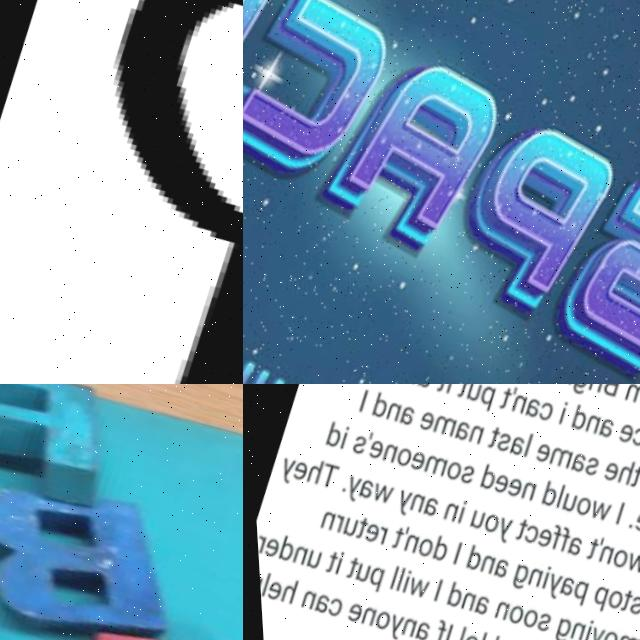A: (393, 405, 415, 430), (352, 477, 373, 503), (551, 579, 572, 605), (306, 591, 327, 617), (502, 438, 523, 463), (449, 421, 470, 446), (560, 540, 581, 565), (486, 560, 507, 585), (466, 597, 487, 621), (520, 401, 540, 426), (593, 423, 612, 448), (565, 456, 584, 480), (418, 498, 437, 522), (405, 621, 427, 640)
B: (0, 447, 205, 640), (597, 384, 620, 405)
C: (320, 595, 341, 621), (532, 405, 553, 429), (518, 527, 537, 551), (626, 432, 640, 456)
D: (438, 582, 462, 612), (459, 547, 483, 576), (566, 408, 589, 438), (320, 420, 343, 450), (271, 533, 294, 563), (534, 484, 557, 513), (426, 536, 448, 566), (367, 392, 389, 421), (474, 465, 495, 495)
E: (362, 438, 384, 464), (338, 602, 360, 627), (612, 428, 633, 454), (413, 411, 434, 437), (487, 475, 508, 501), (530, 530, 551, 556), (287, 458, 308, 484), (259, 577, 280, 603), (529, 446, 550, 471), (405, 451, 426, 476), (258, 534, 279, 559), (500, 480, 521, 504), (597, 466, 618, 489), (358, 523, 377, 547), (627, 516, 640, 542)
F: (551, 531, 569, 559), (543, 528, 561, 556), (425, 620, 444, 640)
G: (504, 566, 527, 596), (566, 384, 589, 402), (546, 621, 567, 640)
H: (611, 464, 633, 495), (274, 575, 295, 605), (302, 457, 323, 486), (555, 384, 577, 392)
I: (328, 550, 342, 577), (553, 406, 567, 432), (535, 571, 549, 597), (395, 570, 409, 596), (335, 426, 348, 451), (451, 503, 464, 528), (354, 389, 367, 414), (447, 542, 460, 567), (610, 508, 623, 531), (426, 581, 439, 604), (575, 623, 591, 640), (441, 384, 455, 398), (583, 384, 596, 397), (435, 628, 448, 640)
L: (550, 489, 564, 514), (390, 568, 403, 594), (518, 437, 531, 462), (383, 567, 396, 592), (256, 570, 268, 595), (450, 628, 462, 640), (470, 634, 483, 640)
M: (545, 450, 571, 476), (429, 415, 455, 441), (419, 455, 445, 481), (620, 388, 640, 414)
N: (464, 425, 485, 451), (377, 443, 398, 468), (403, 493, 424, 518), (452, 593, 473, 617), (473, 557, 494, 580), (286, 544, 307, 567), (592, 549, 611, 574), (516, 484, 535, 508), (488, 602, 507, 626), (507, 398, 527, 420), (393, 618, 413, 640), (354, 607, 374, 629), (382, 402, 401, 425), (314, 510, 333, 533), (438, 504, 457, 526), (521, 571, 540, 593), (398, 535, 417, 557), (294, 588, 313, 610), (580, 421, 598, 441), (563, 626, 582, 640)
O: (514, 609, 536, 635), (605, 552, 626, 578), (390, 447, 412, 471), (569, 500, 590, 524), (440, 461, 461, 485), (600, 594, 621, 618), (366, 610, 387, 634), (477, 515, 498, 538), (411, 539, 432, 562), (500, 608, 521, 631), (594, 633, 616, 640), (454, 635, 475, 640)
P: (0, 384, 126, 524), (562, 584, 586, 615), (473, 387, 496, 418), (360, 565, 382, 595), (584, 590, 605, 620)
R: (0, 0, 243, 384), (326, 514, 343, 536), (371, 527, 385, 548), (254, 532, 265, 553), (589, 384, 603, 400)
S: (621, 599, 640, 624), (579, 461, 598, 484), (491, 434, 510, 457), (530, 615, 549, 638), (455, 467, 474, 489), (347, 435, 366, 457)
T: (314, 461, 339, 492), (623, 469, 640, 498), (340, 557, 358, 582), (318, 551, 336, 576), (495, 391, 512, 416), (482, 430, 499, 453), (580, 543, 596, 567), (510, 522, 526, 546), (614, 596, 630, 620), (386, 528, 402, 552), (351, 518, 367, 542), (452, 384, 470, 403), (431, 384, 448, 397)
U: (555, 496, 576, 520), (299, 548, 319, 571), (461, 385, 481, 407), (337, 517, 356, 540), (464, 512, 483, 534), (349, 563, 368, 585), (414, 384, 432, 391)
V: (581, 630, 602, 640)
W: (583, 504, 609, 530), (365, 482, 391, 508), (400, 578, 426, 604), (619, 556, 640, 582)
Y: (388, 489, 412, 519), (537, 576, 560, 606), (338, 474, 360, 504), (490, 519, 511, 549), (273, 456, 294, 486), (378, 613, 401, 640)
